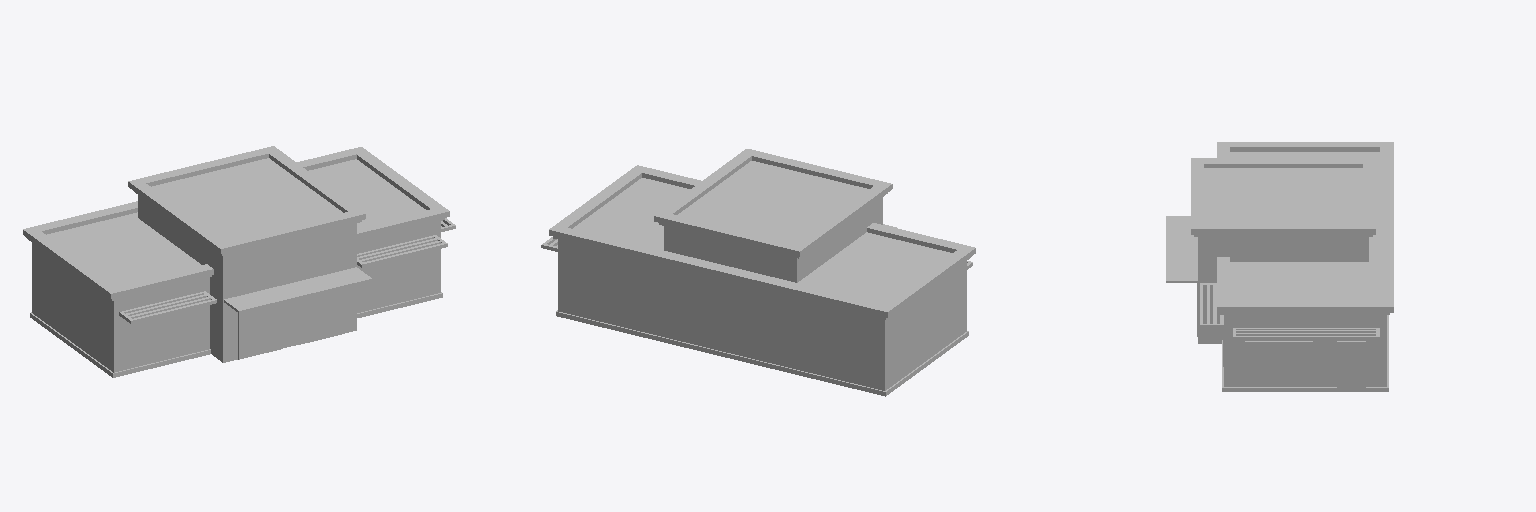
The model's file is Building_Super Market.obj.
3 renders of one model, left to right at view 1: azimuth 30°, elevation 25°; view 2: azimuth 150°, elevation 25°; view 3: azimuth 270°, elevation 25°, orthographic.
Visible parts, largest first — view 1: Building_Super_Market; view 2: Building_Super_Market; view 3: Building_Super_Market.
Part boxes in pixels (x1,y1,x2,y2): Building_Super_Market: (23, 146, 455, 377); Building_Super_Market: (541, 149, 975, 396); Building_Super_Market: (1166, 142, 1393, 391).
Bounding box in the file's own units: 935 × 298 × 522.